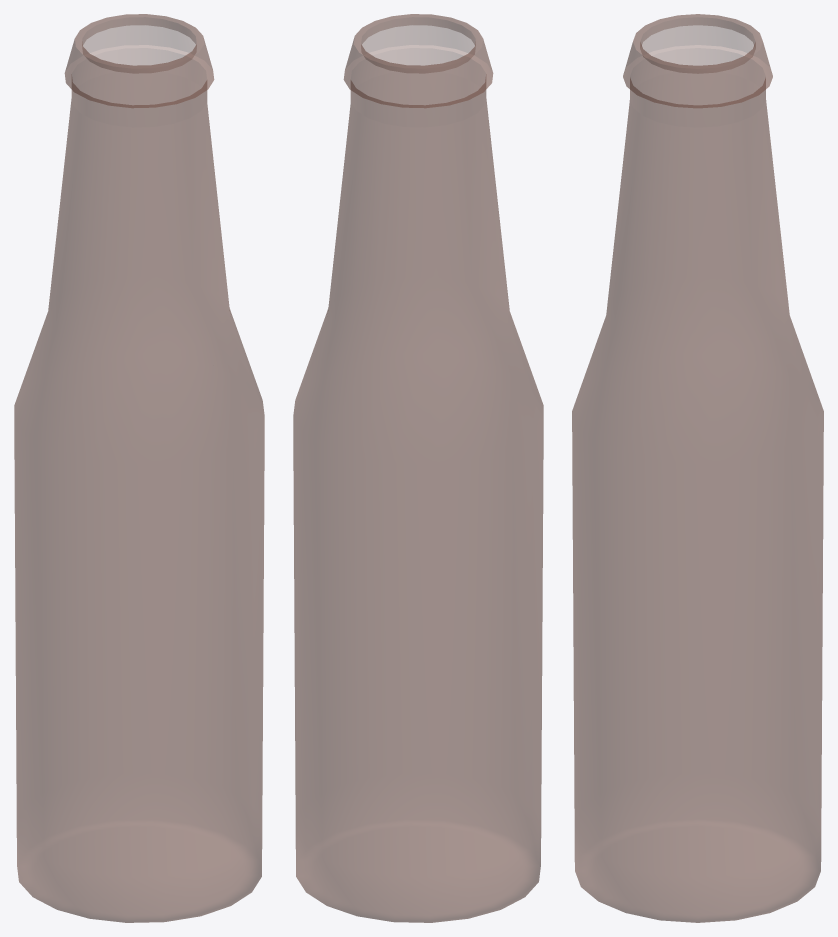
The model's file is GlassBottle.fbx.
The picture shows the model from 3 angles, left to right: view 1: azimuth 30°, elevation 25°; view 2: azimuth 150°, elevation 25°; view 3: azimuth 270°, elevation 25°; orthographic projection.
Parts seen in each view (by area): view 1: pasted__GlassBottle; view 2: pasted__GlassBottle; view 3: pasted__GlassBottle.
Boxes of the visible parts, <box> form: pasted__GlassBottle: <box>14,14,264,922</box>; pasted__GlassBottle: <box>293,14,543,922</box>; pasted__GlassBottle: <box>572,14,823,922</box>.
Size of the model in its own units: 8.08 by 29.37 by 8.08.
